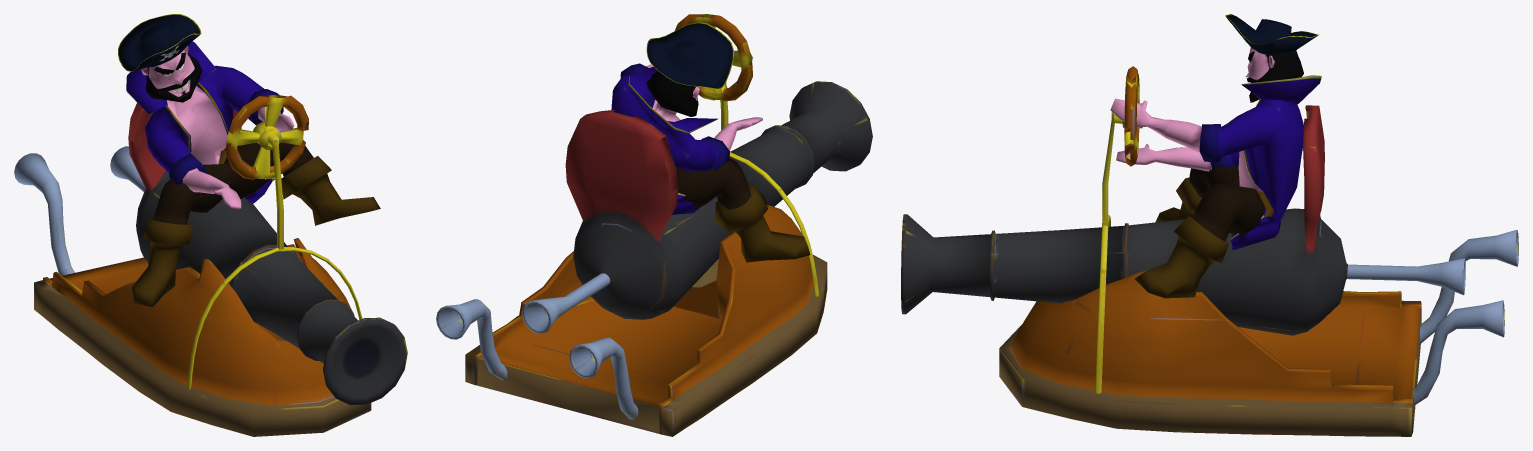
The model's file is pirataGiroDer_000172.obj.
3 renders of one model, left to right at view 1: azimuth 30°, elevation 25°; view 2: azimuth 150°, elevation 25°; view 3: azimuth 270°, elevation 25°, orthographic. The views are drawn at different scales.
Parts seen in each view (by area): view 1: carro_pirata, Pirata_PirataH_Pirata_PirataH.001; view 2: carro_pirata, Pirata_PirataH_Pirata_PirataH.001; view 3: carro_pirata, Pirata_PirataH_Pirata_PirataH.001.
Part boxes in pixels (x1,y1,x2,y2): carro_pirata: [14, 95, 407, 436]; Pirata_PirataH_Pirata_PirataH.001: [118, 14, 380, 307]; carro_pirata: [436, 14, 872, 436]; Pirata_PirataH_Pirata_PirataH.001: [611, 22, 810, 262]; carro_pirata: [901, 66, 1518, 436]; Pirata_PirataH_Pirata_PirataH.001: [1110, 14, 1321, 298].
Bounding box in the file's own units: 5.66 × 7.43 × 12.1.
2 materials, 2 textured.
